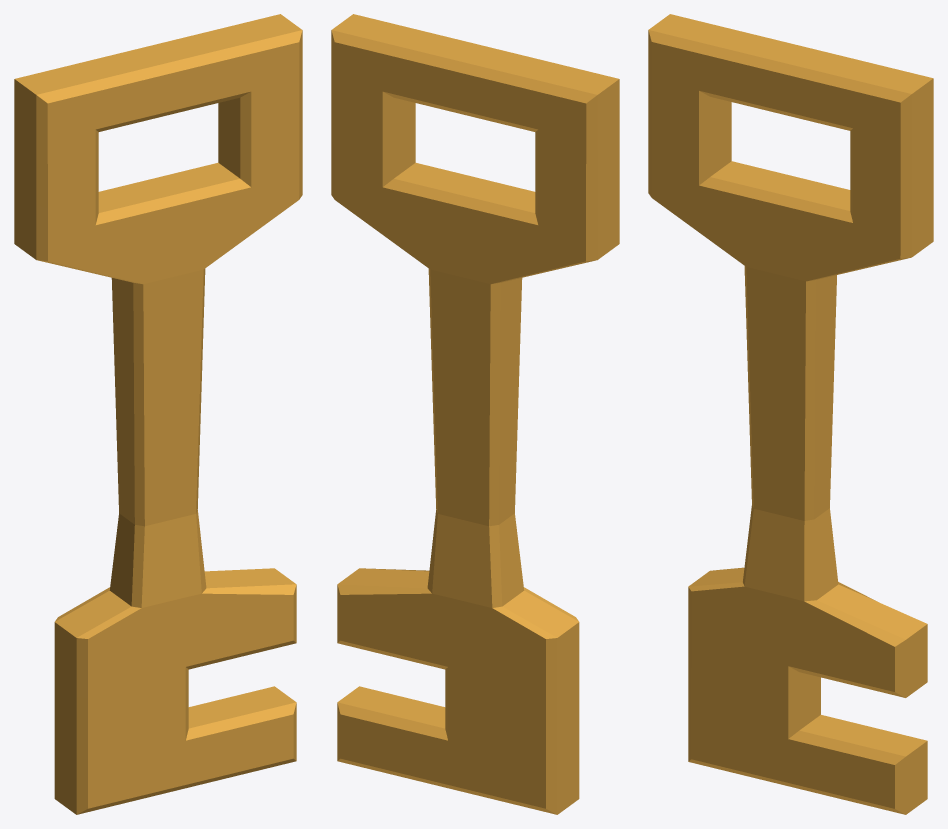
Rendered from key.fbx.
3 views of the same model, side by side, from view 1: azimuth 30°, elevation 25°; view 2: azimuth 150°, elevation 25°; view 3: azimuth 330°, elevation 25° (orthographic).
Visible parts, largest first — view 1: key; view 2: key; view 3: key.
Part boxes in pixels (<box>): key: <box>14,14,302,814</box>; key: <box>331,14,619,814</box>; key: <box>648,14,933,814</box>.
Bounding box in the file's own units: 39.34 × 103 × 7.69.
